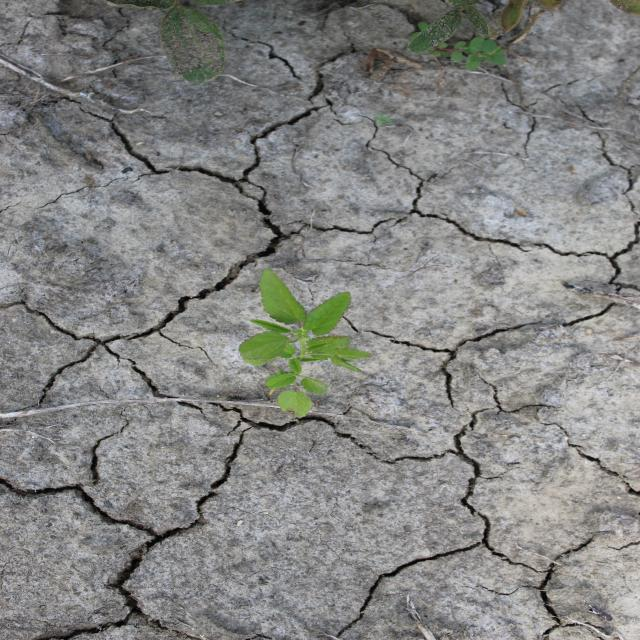PricklySida: (237, 266, 375, 420)
SpottedSpurge: (406, 22, 514, 71)
